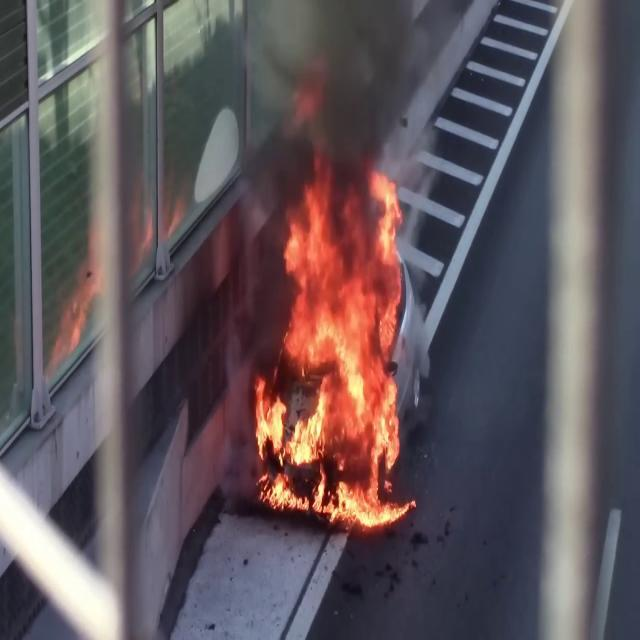Fire: (251, 147, 409, 521)
Smoke: (258, 1, 421, 190)
